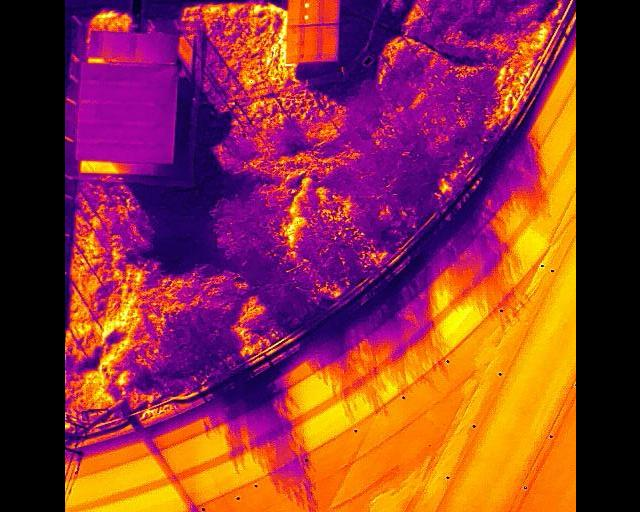Cell-Multi: (303, 0, 319, 25)
No-Anomaly: (318, 25, 336, 61), (302, 26, 319, 62), (285, 26, 301, 63), (320, 0, 338, 25), (289, 0, 303, 26)
